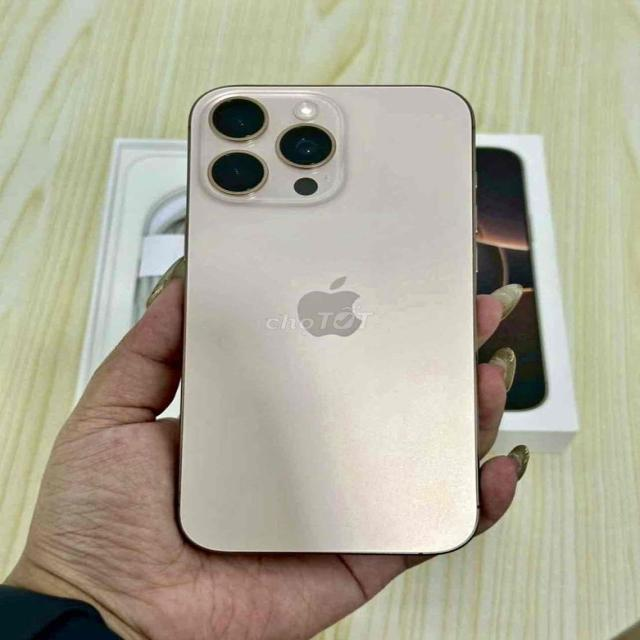gen_16: (165, 75, 500, 562)
